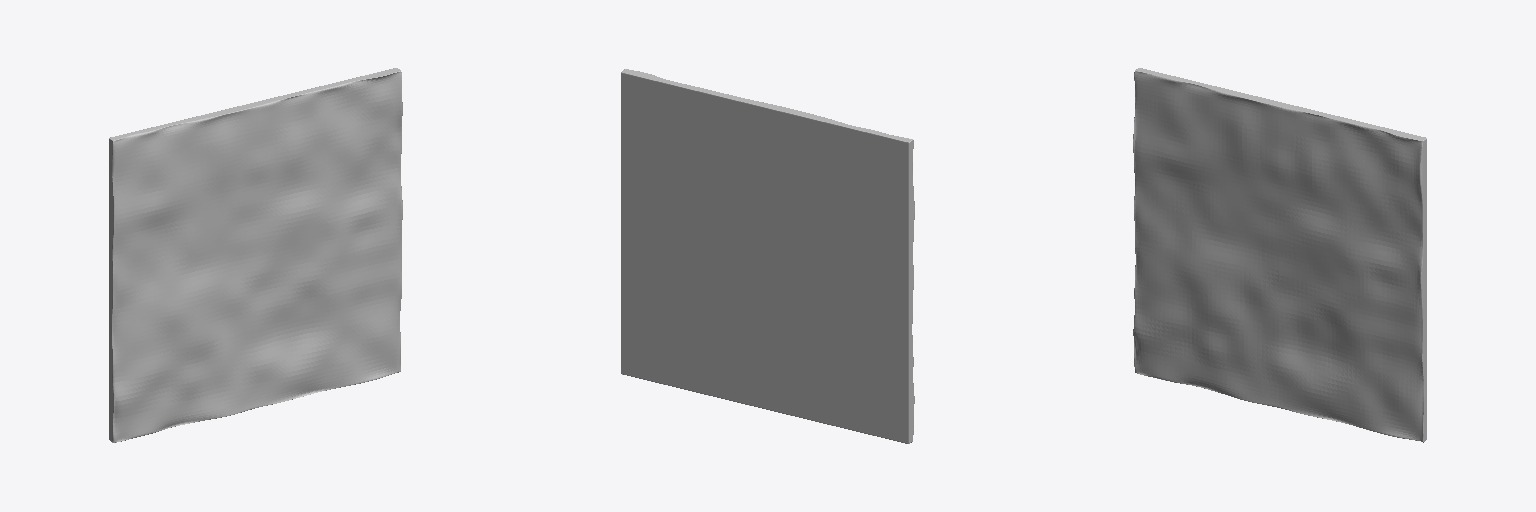
File: ground.obj
The picture shows the model from 3 angles: view 1: azimuth 30°, elevation 25°; view 2: azimuth 150°, elevation 25°; view 3: azimuth 330°, elevation 25°; orthographic projection.
Visible parts, largest first — view 1: 10450_Rectangular_Grass_Patch_v1; view 2: 10450_Rectangular_Grass_Patch_v1; view 3: 10450_Rectangular_Grass_Patch_v1.
Part boxes in pixels (x1,y1,x2,y2): 10450_Rectangular_Grass_Patch_v1: (109,68,402,442); 10450_Rectangular_Grass_Patch_v1: (621,69,914,443); 10450_Rectangular_Grass_Patch_v1: (1133,68,1426,442).
Size of the model in its own units: 1 by 1 by 0.0393.